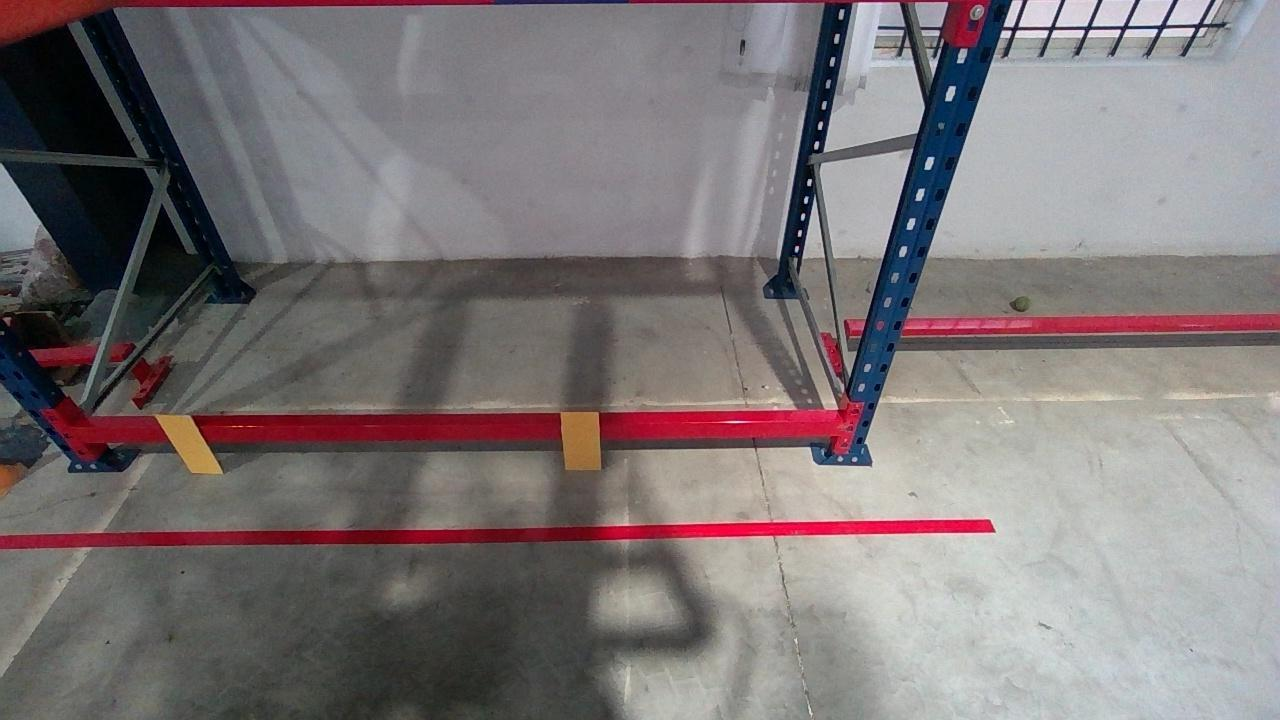h_rack: (67, 419, 844, 444)
orange_strip: (152, 415, 225, 473), (557, 411, 601, 470)
red_line: (0, 517, 997, 546)
